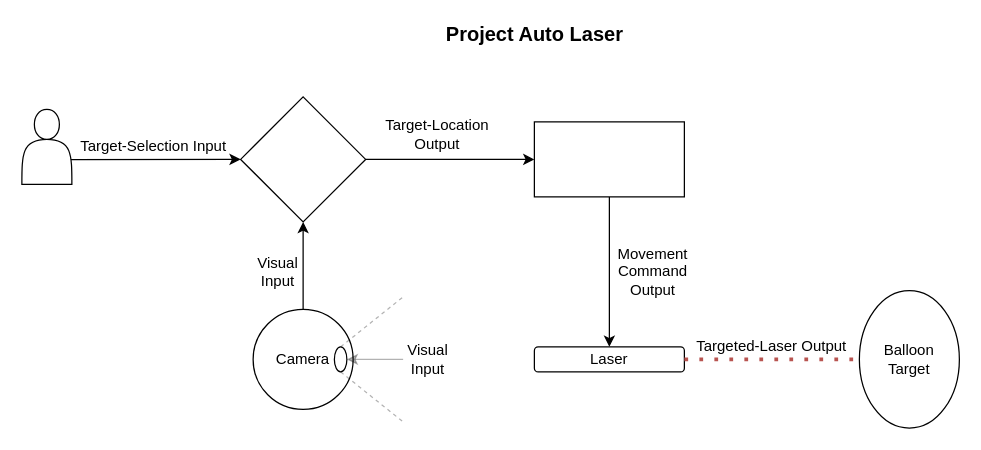
Image size: 981x450. Some labels were removed from this diagram. The shapes that lost their labels are listed below. From the top down, each one's centre as x and y in pixels, then its label:
At point 302,159: "Artificial Intelligence".
At point 608,159: "Arduino".
